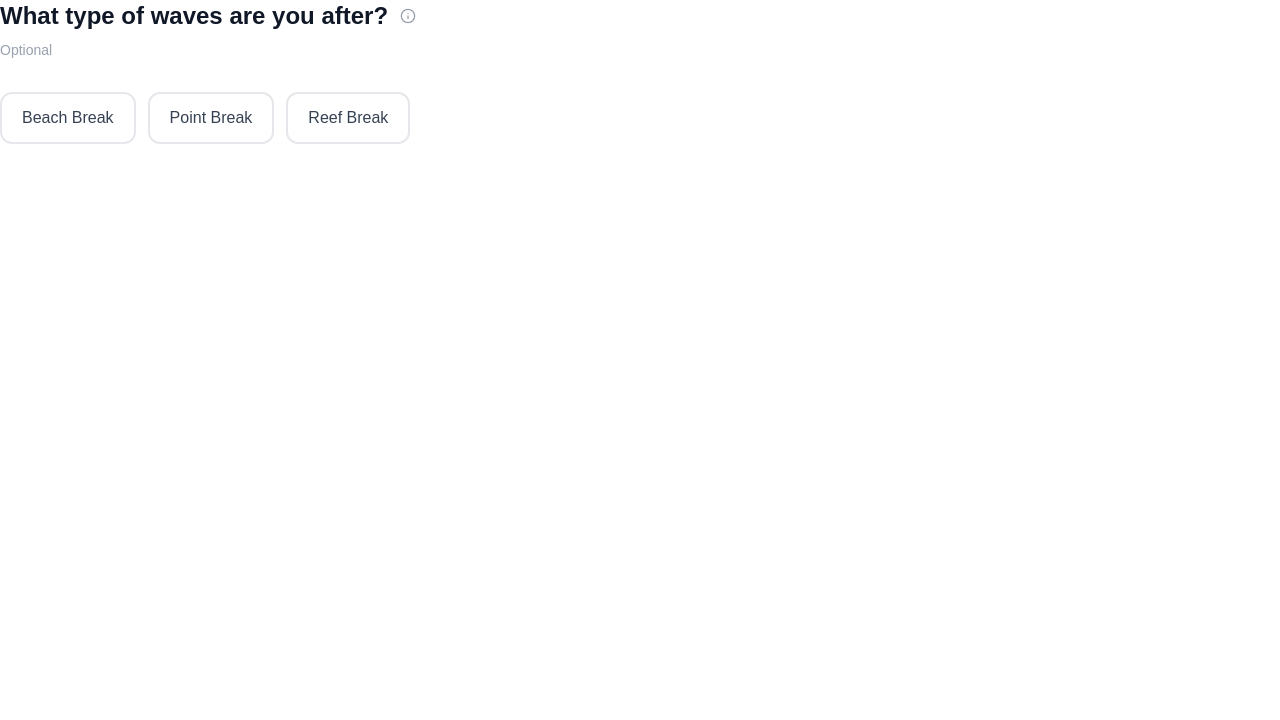
Test: QuestionScreen — tooltip › opens a full info modal with an image+description per item for tooltipItems questions
The width and height of the screenshot is (1280, 720).
Expected: the text "Sand bottom, most forgiving." is not shown
Click the button named "More info" at (408, 16), box [396, 4, 420, 28]
(page scrolled)
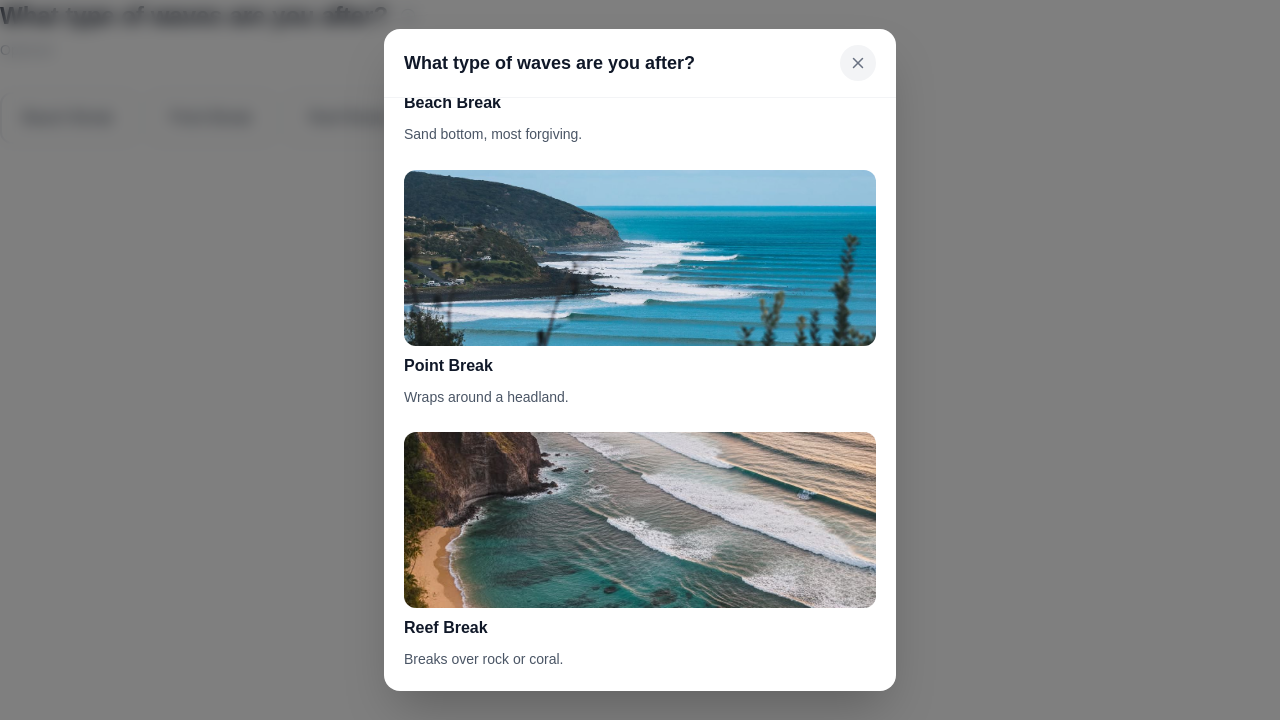
Expected: the button named "Close" is shown, [840, 45, 876, 81]
Expected: the text "Sand bottom, most forgiving." is shown, [404, 126, 582, 142]
Expected: the text "Wraps around a headland." is shown, [404, 388, 569, 404]
